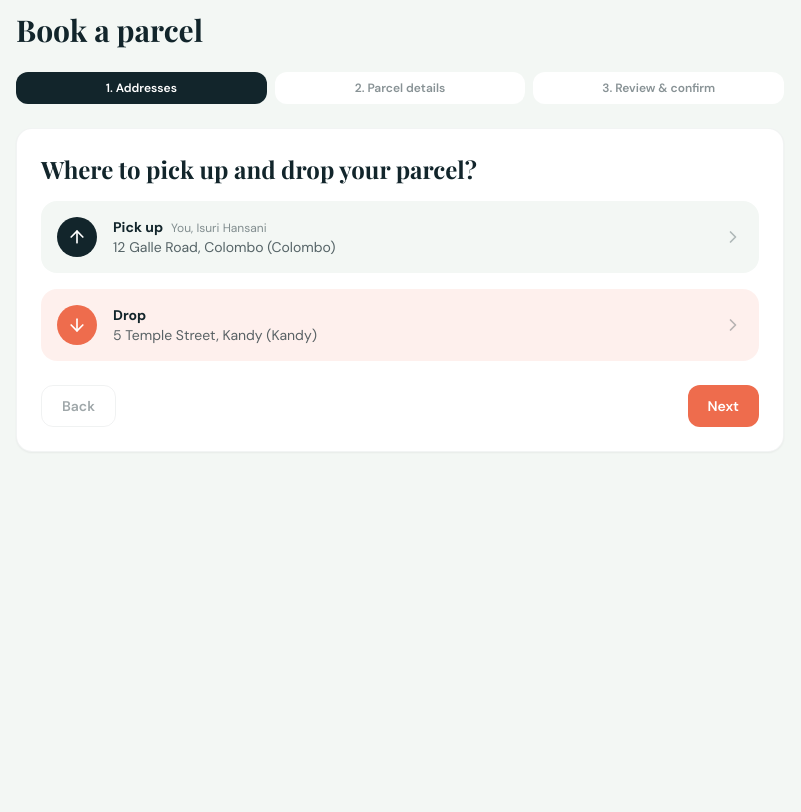
Test: BookParcelPage details step › shows an error under every wrong field and does not ask for a price
The width and height of the screenshot is (801, 812).
Click the button "Next" at (723, 406), box [688,385,759,427]
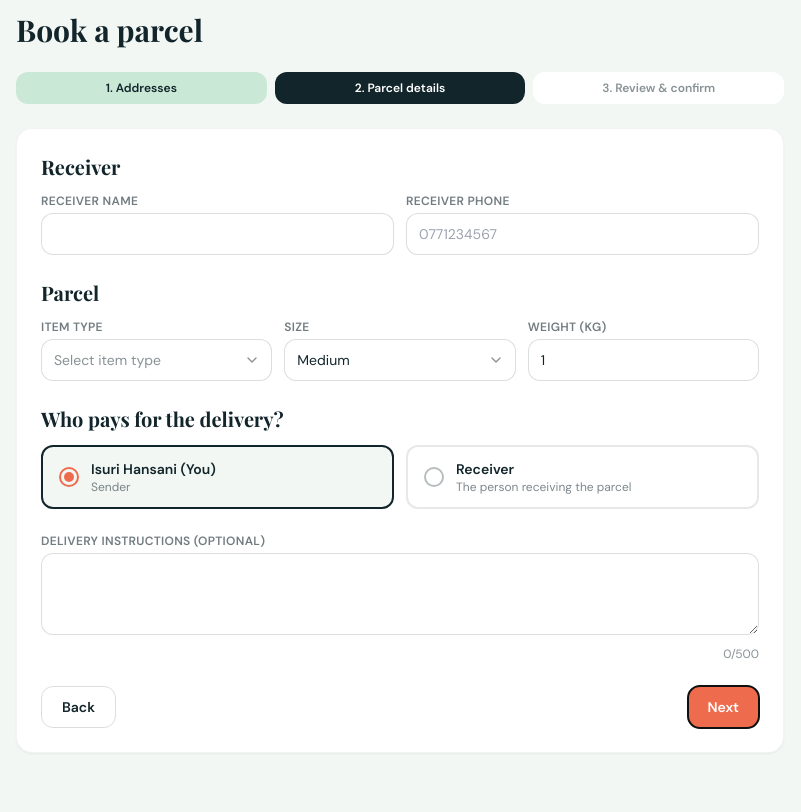
Expected: the field labelled "Receiver name" is shown
Type "hhhh123" into the field labelled "Receiver name" at (218, 234), box [41,213,394,255]
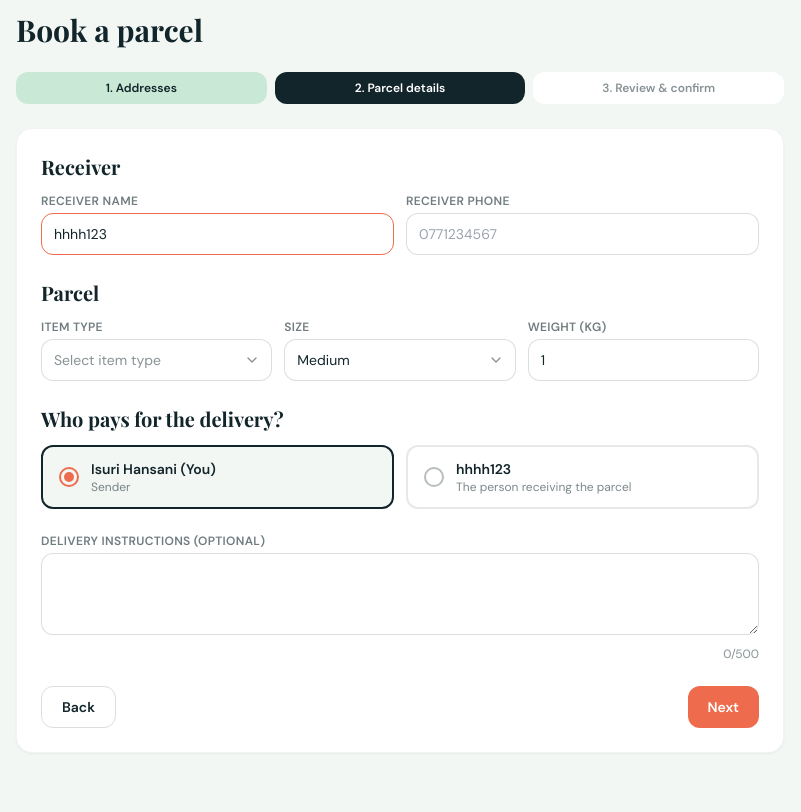
Type "12345" into the field labelled "Receiver phone" at (582, 234), box [406,213,759,255]
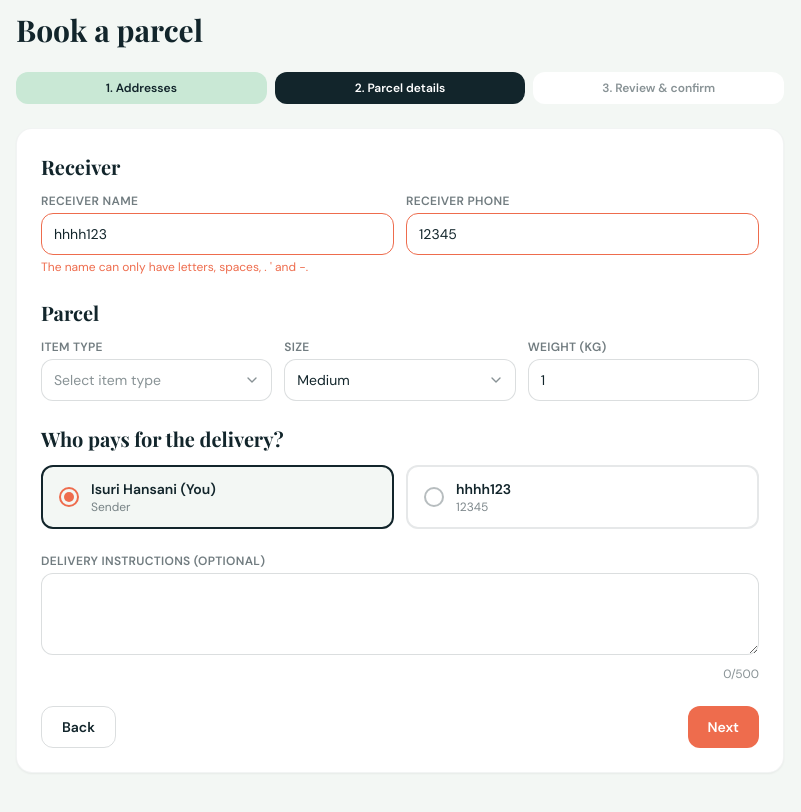
Clear the field labelled "Weight (kg)" at (643, 380), box [528,359,759,401]
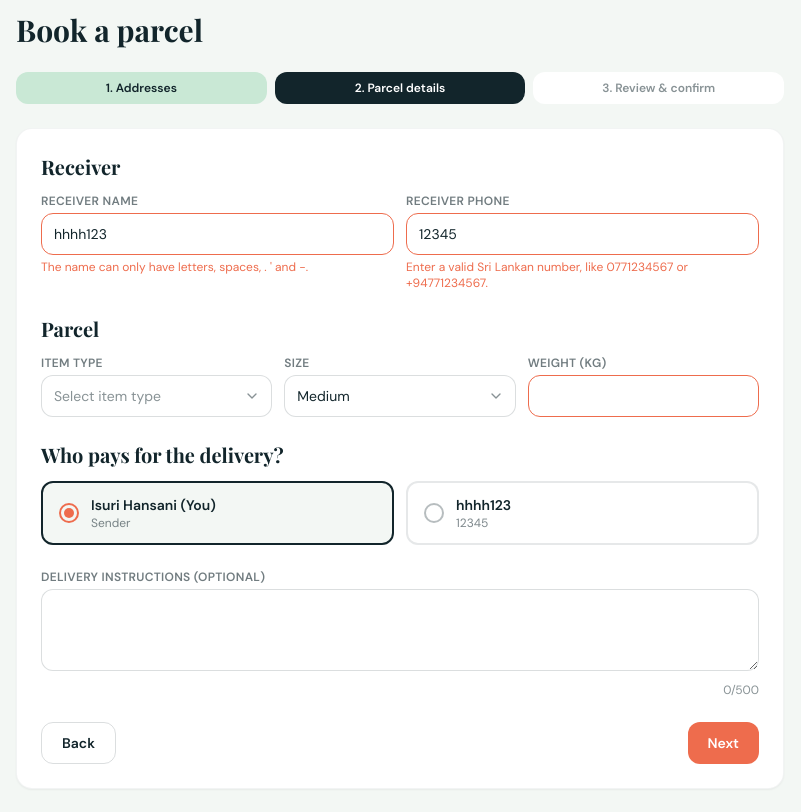
Type "-2" into the field labelled "Weight (kg)" at (643, 396), box [528,375,759,417]
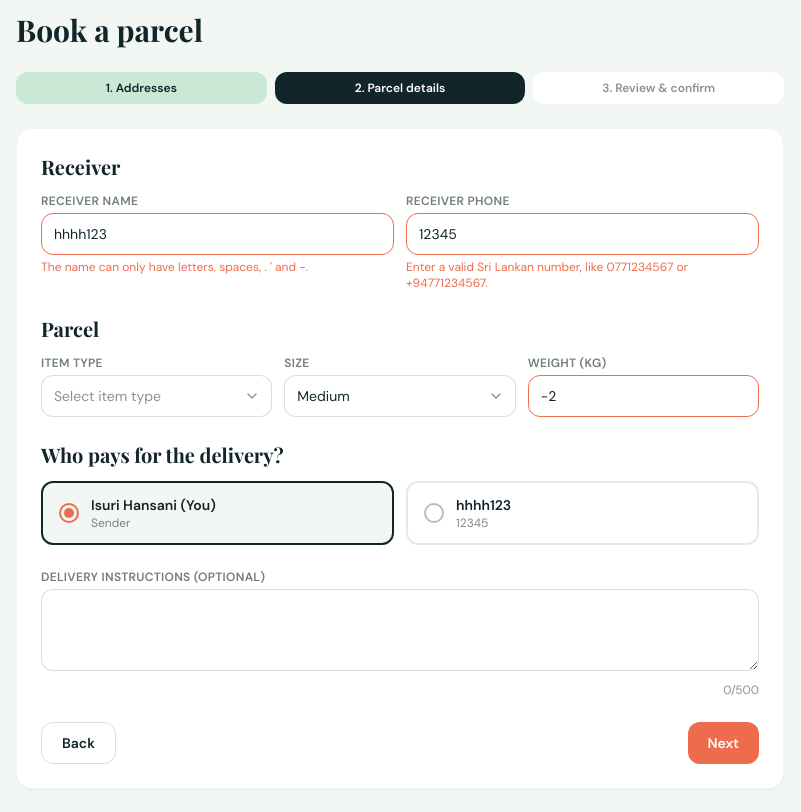
Click the button "Next" at (723, 743), box [688,722,759,764]
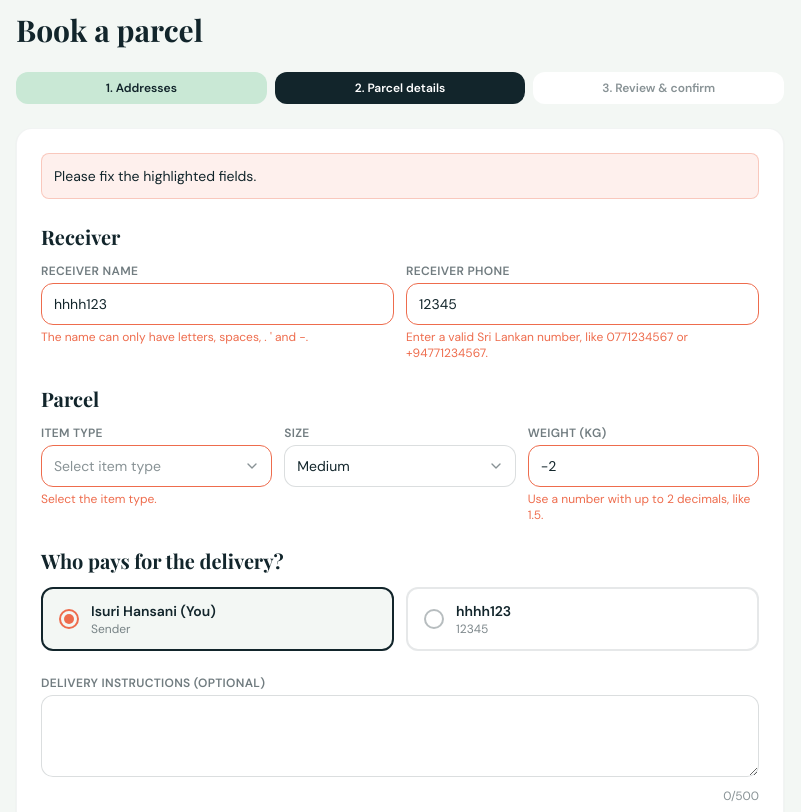
Expected: the text "The name can only have letters, spaces, . ' and -." is shown, [41,329,308,345]
Expected: the text "Enter a valid Sri Lankan number, like 0771234567 or +94771234567." is shown, [406,329,688,361]
Expected: the text "Use a number with up to 2 decimals, like 1.5." is shown, [528,491,759,523]
